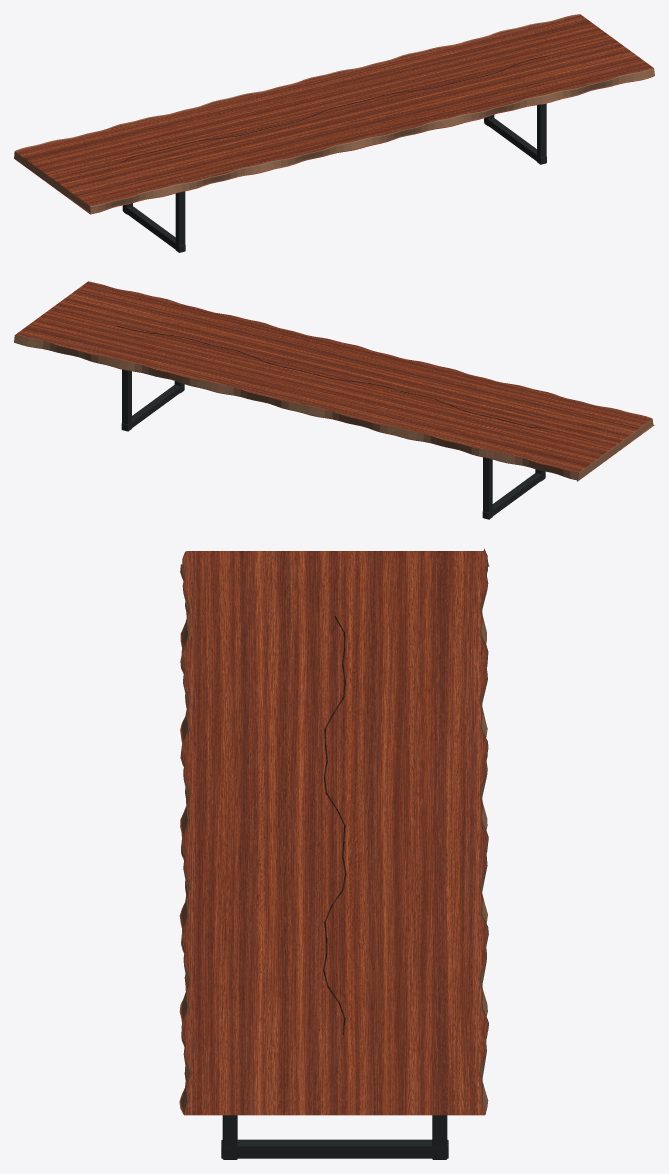
Rendered from enchi_sapele_dining.glb.
The picture shows the model from 3 angles, top to bottom: view 1: azimuth 30°, elevation 25°; view 2: azimuth 150°, elevation 25°; view 3: azimuth 270°, elevation 25°; orthographic projection. The views are drawn at different scales.
Visible parts, largest first — view 1: ENCHI / continuous wood grain slab, ENCHI / low frame bar, ENCHI / low frame bar.001, ENCHI / steel frame upright, ENCHI / steel frame upright.002; view 2: ENCHI / continuous wood grain slab, ENCHI / low frame bar.001, ENCHI / low frame bar, ENCHI / steel frame upright.001, ENCHI / steel frame upright.003; view 3: ENCHI / continuous wood grain slab, ENCHI / low frame bar.001.
Part boxes in pixels (x1,y1,x2,y2): ENCHI / continuous wood grain slab: (14,14,654,214); ENCHI / low frame bar: (122,205,185,252); ENCHI / low frame bar.001: (484,118,546,164); ENCHI / steel frame upright: (175,191,185,252); ENCHI / steel frame upright.002: (537,103,546,164); ENCHI / continuous wood grain slab: (14,281,654,481); ENCHI / low frame bar.001: (121,384,184,431); ENCHI / low frame bar: (482,472,545,519); ENCHI / steel frame upright.001: (483,457,492,519); ENCHI / steel frame upright.003: (122,369,131,431); ENCHI / continuous wood grain slab: (179,548,489,1115); ENCHI / low frame bar.001: (221,1139,448,1158).
Bounding box in the file's own units: 5.71 × 0.758 × 1.36.
4 materials, 1 textured.
